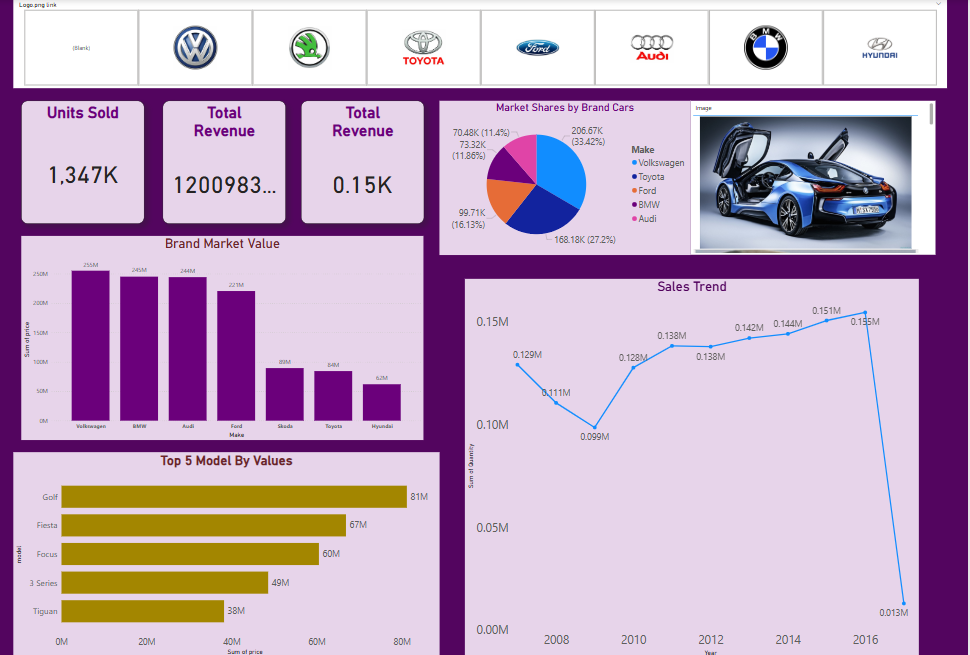

This screenshot's page, from the dashboard's own definition file:
{"tool":"powerbi","page":{"name":"Page 1","canvas":[2200,1500],"ordinal":0},"visuals":[{"type":"card","title":"Units Sold","fields":{"Values":["Sum(Norway_car_sales_by_make (1).Quantity)"]},"box":[51.7,230.1,279.2,279.2],"z":0},{"type":"slicer","fields":{"Values":["Brands_Master Data.Logo.png link"]},"box":[33.1,0,2120.3,202.5],"z":1000},{"type":"card","title":"Total Revenue","fields":{"Values":["Sum(cars_dataset.price)"]},"box":[372.3,230.1,279.2,279.2],"z":2000},{"type":"card","title":"Total Revenue","fields":{"Values":["Count(cars_dataset.model)"]},"box":[685,230.1,279.2,279.2],"z":3000},{"type":"pieChart","title":"Market Shares by Brand Cars","fields":{"Category":["Norway_car_sales_by_make (1).Make"],"Y":["Sum(Norway_car_sales_by_make (1).Quantity)"]},"box":[1000,231.1,570.4,350.2],"z":4000},{"type":"tableEx","fields":{"Values":["Brands_Master Data.Image"]},"box":[1571.8,231.9,555.8,349.7],"z":5000},{"type":"columnChart","title":"Brand Market Value","fields":{"Category":["cars_dataset.Make"],"Y":["Sum(cars_dataset.price)"]},"box":[51.5,537.4,912.9,463.8],"z":6000},{"type":"barChart","title":"Top 5 Model By Values","fields":{"Category":["cars_dataset.model"],"Y":["Sum(cars_dataset.price)"]},"box":[33.1,1030.7,968.1,467.5],"z":7000},{"type":"lineChart","title":"Sales Trend","fields":{"Y":["Sum(Norway_car_sales_by_make (1).Quantity)"],"Category":["Norway_car_sales_by_make (1).Year"]},"box":[1056.5,636.8,1030.7,861.4],"z":8000}]}

Visuals, with their boxes in screenshot pixels (x1, y1, x2, y2), scaled from the page's 2200x1500 canvas onto the 970x655 screenshot:
"Units Sold" card: Rect(23, 100, 146, 222)
slicer - Brands_Master Data.Logo.png link: Rect(15, 0, 949, 88)
"Total Revenue" card: Rect(164, 100, 287, 222)
"Total Revenue" card: Rect(302, 100, 425, 222)
"Market Shares by Brand Cars" pieChart: Rect(441, 101, 692, 254)
tableEx - Brands_Master Data.Image: Rect(693, 101, 938, 254)
"Brand Market Value" columnChart: Rect(23, 235, 425, 437)
"Top 5 Model By Values" barChart: Rect(15, 450, 441, 654)
"Sales Trend" lineChart: Rect(466, 278, 920, 654)
